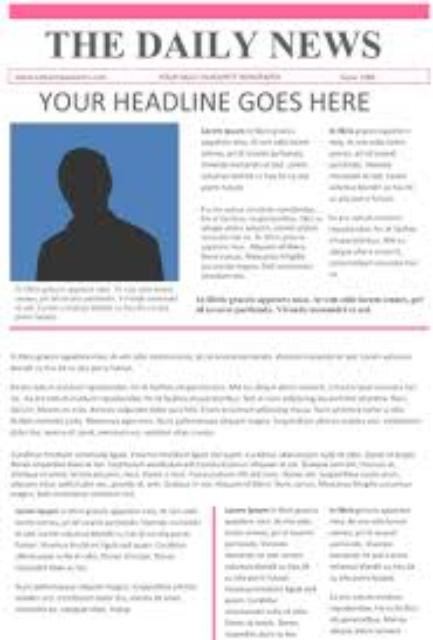cardboard paper: (4, 3, 431, 640)
